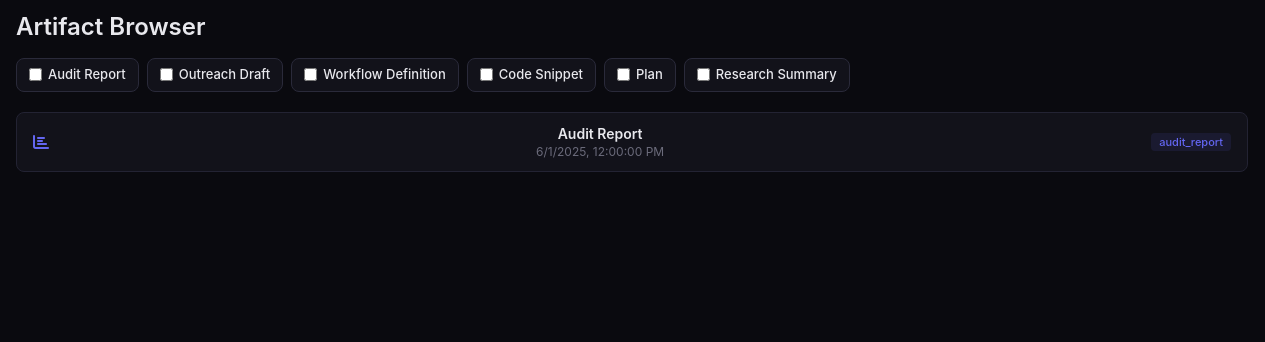
it: ArtifactBrowserPage › shows ArtifactViewer when an artifact is clicked
This screenshot has width=1265, height=342.
Click the list item at (632, 142), box [16,112,1248,172]
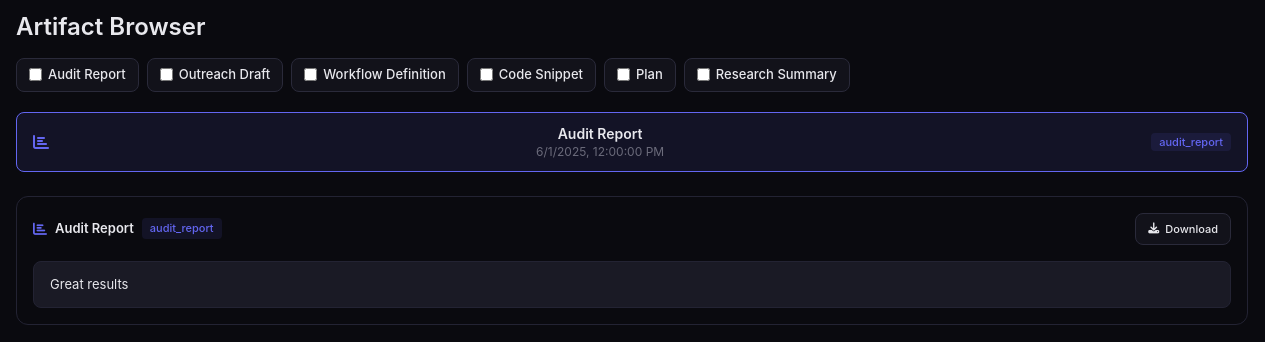
Expected: the element named "artifact viewer" is shown, [16,196,1248,325]
Expected: the text "Great results" is shown, [33,260,1231,308]
